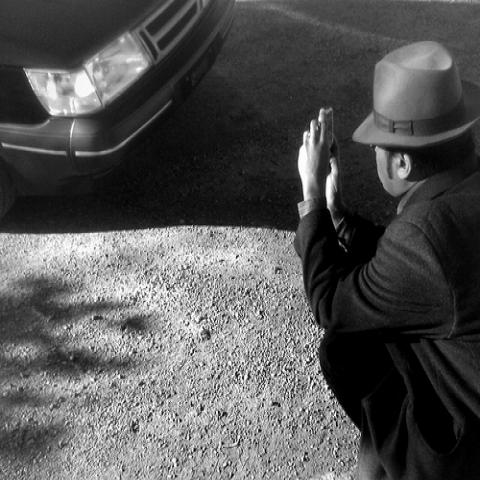car: (0, 1, 236, 224)
